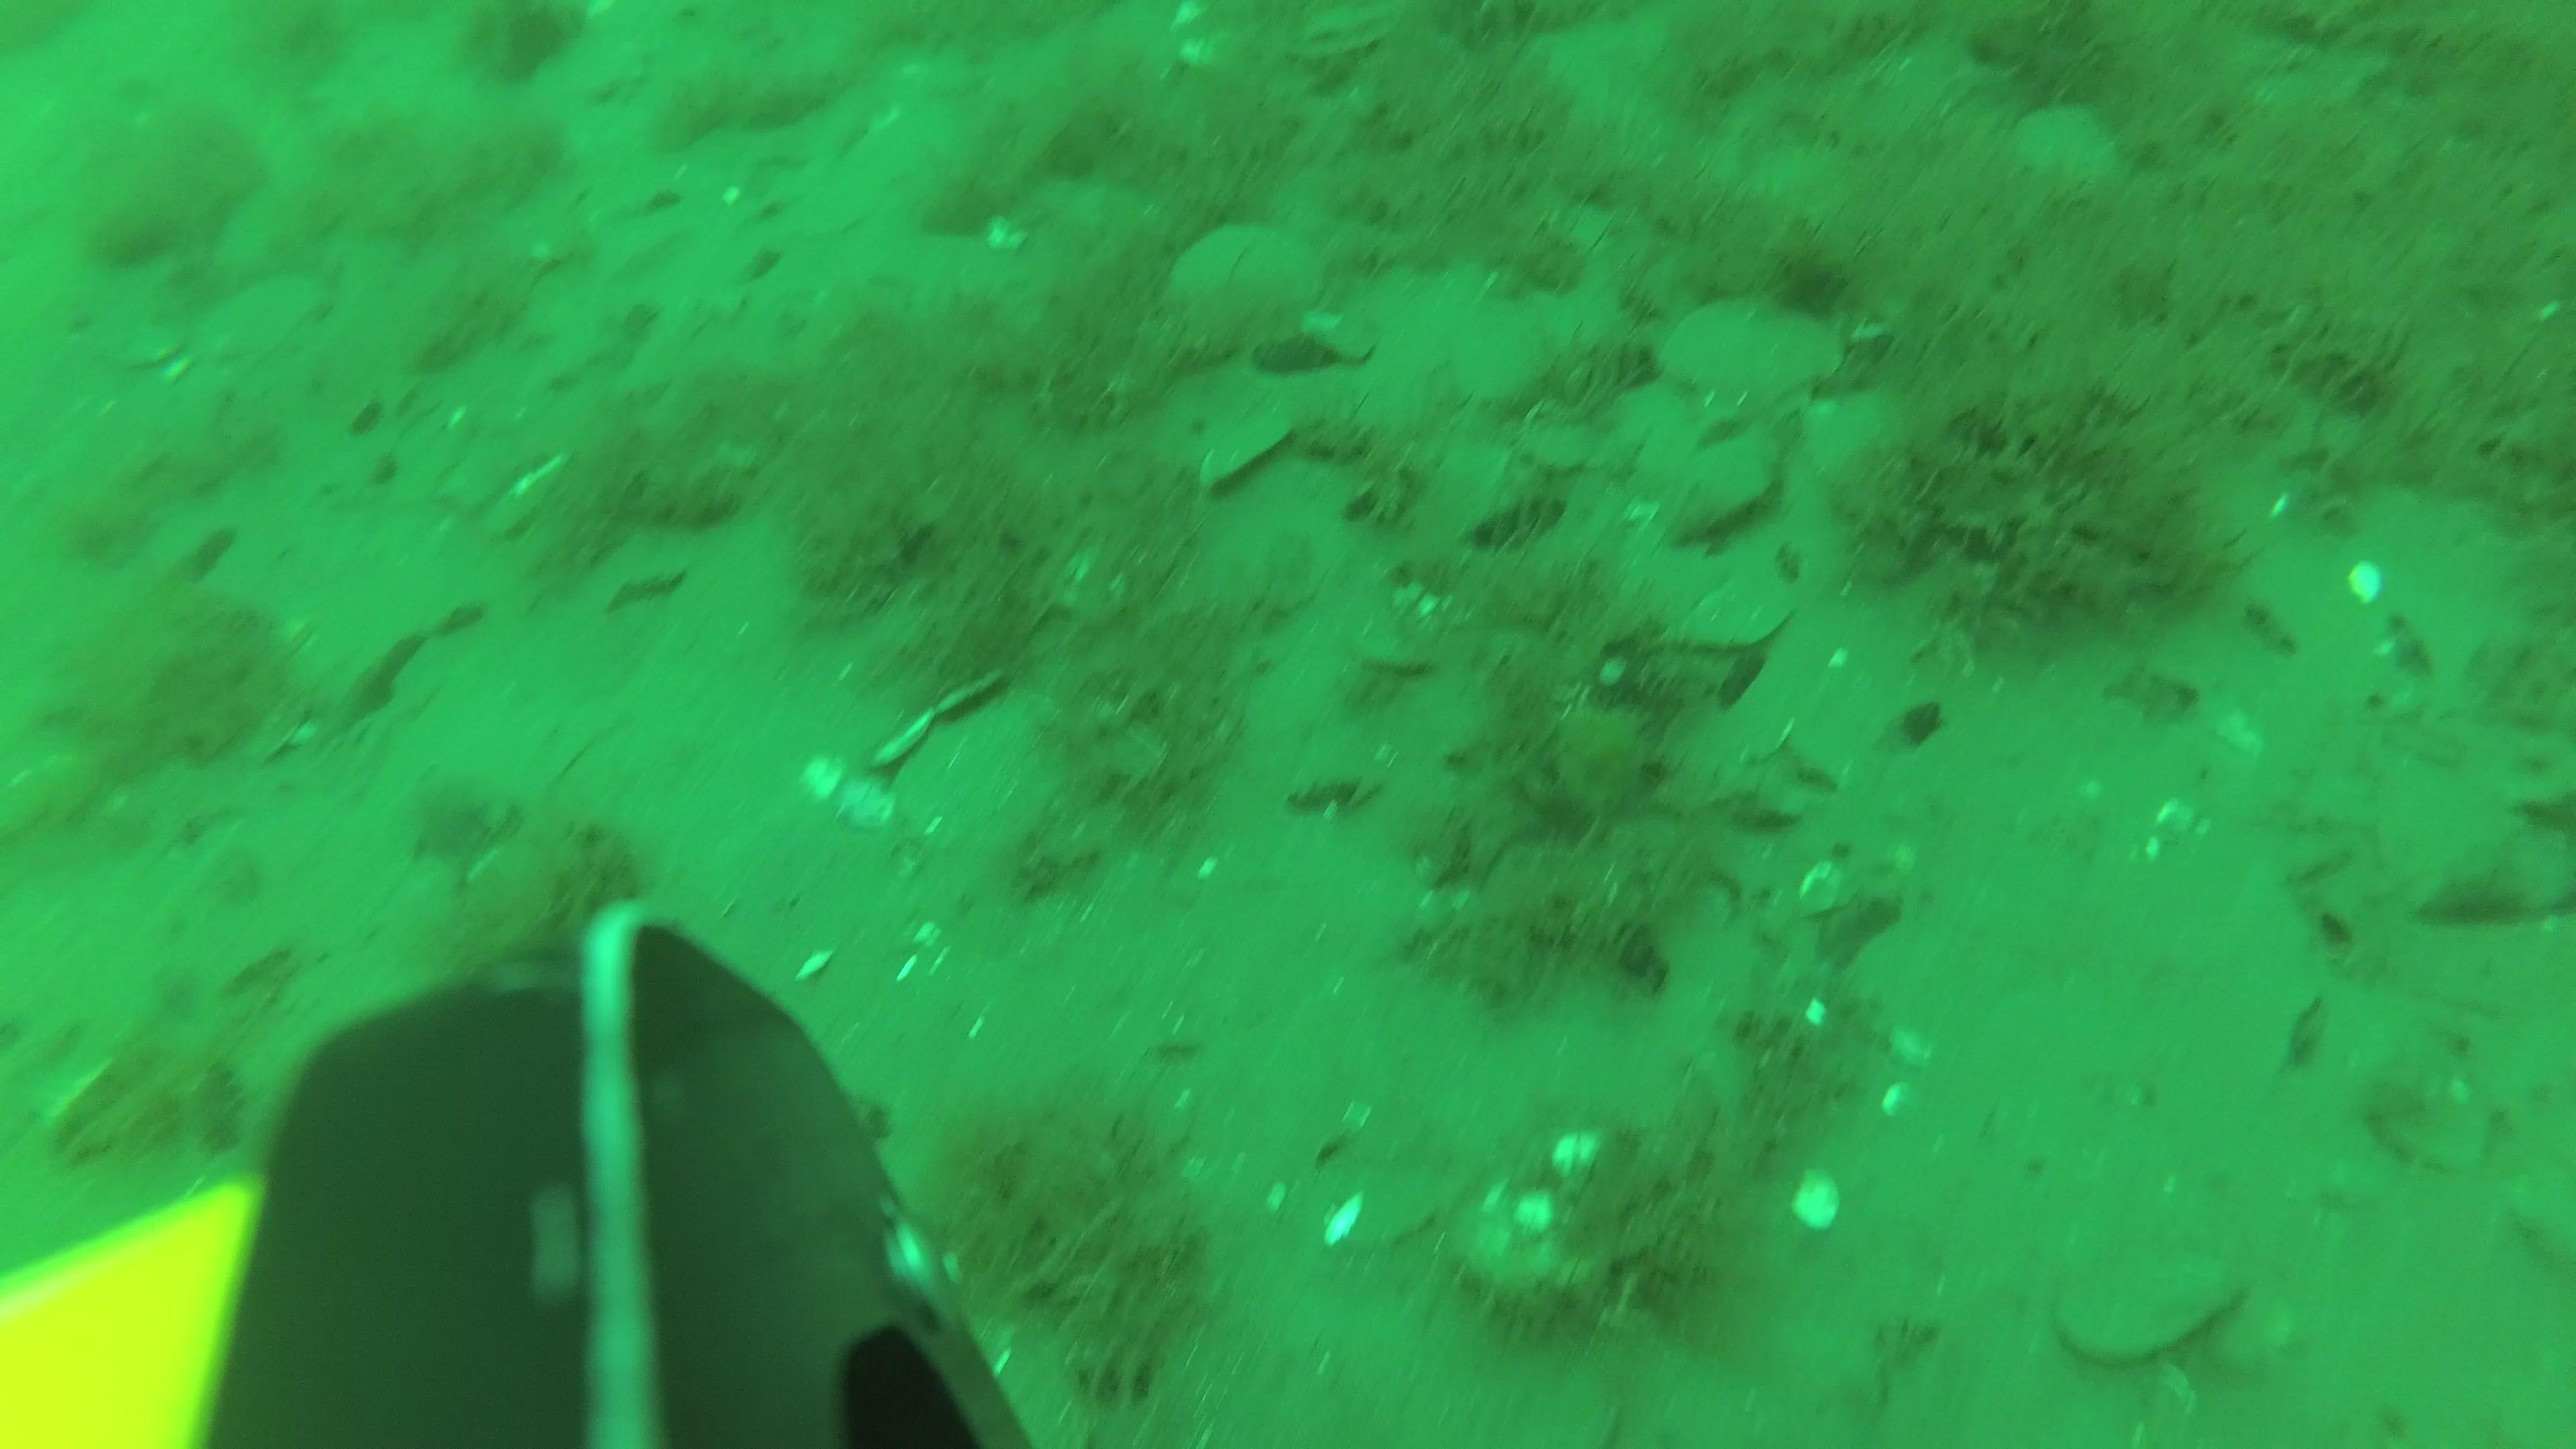scallop: (895, 692, 1074, 858), (1651, 292, 1852, 439), (1601, 391, 1783, 547), (1274, 333, 1444, 456), (1173, 225, 1336, 350), (2006, 96, 2139, 193), (1283, 4, 1415, 69), (1194, 405, 1288, 494), (1518, 391, 1608, 471)
